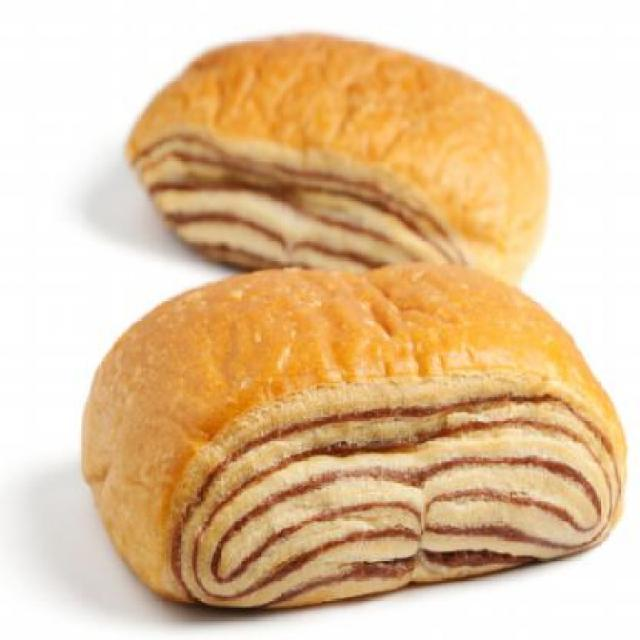Merendine packaged: (74, 264, 628, 618), (118, 32, 552, 288)
